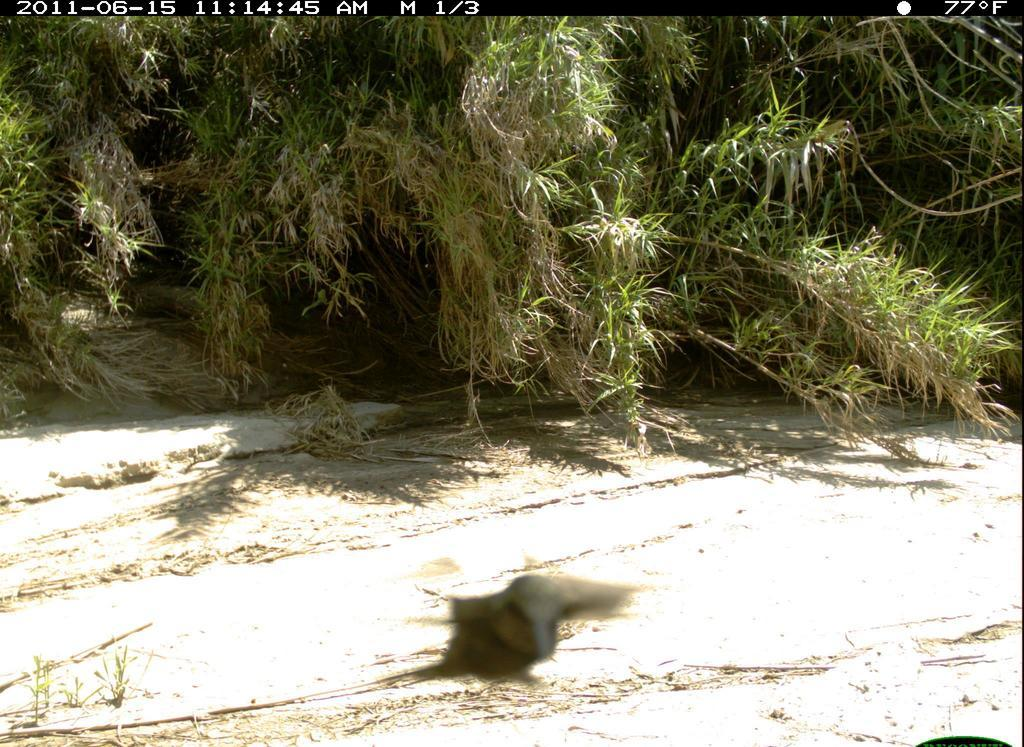bird: (427, 565, 636, 701)
